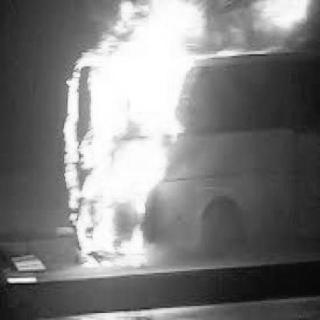Fire: (55, 0, 317, 271)
